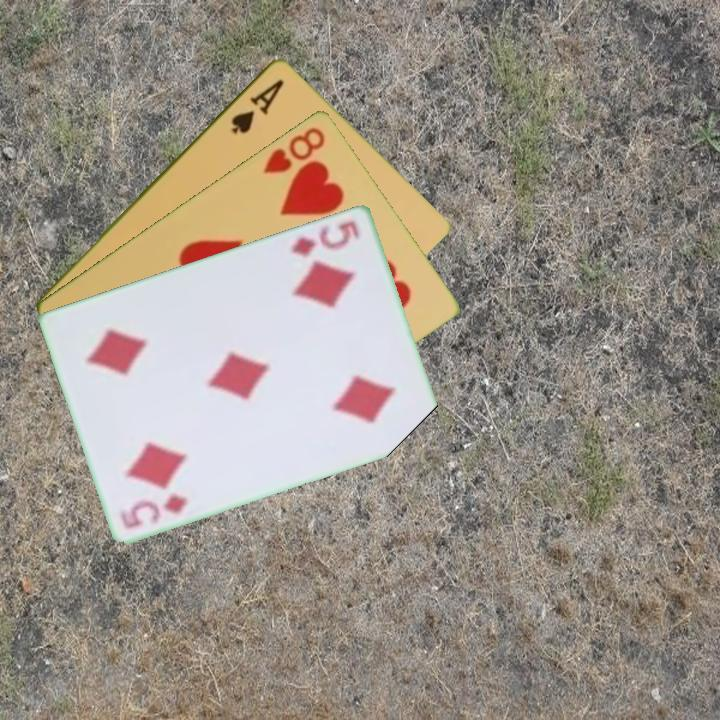5d: (288, 216, 363, 260), (117, 490, 191, 532)
8h: (259, 123, 329, 177)
As: (227, 74, 287, 137)
